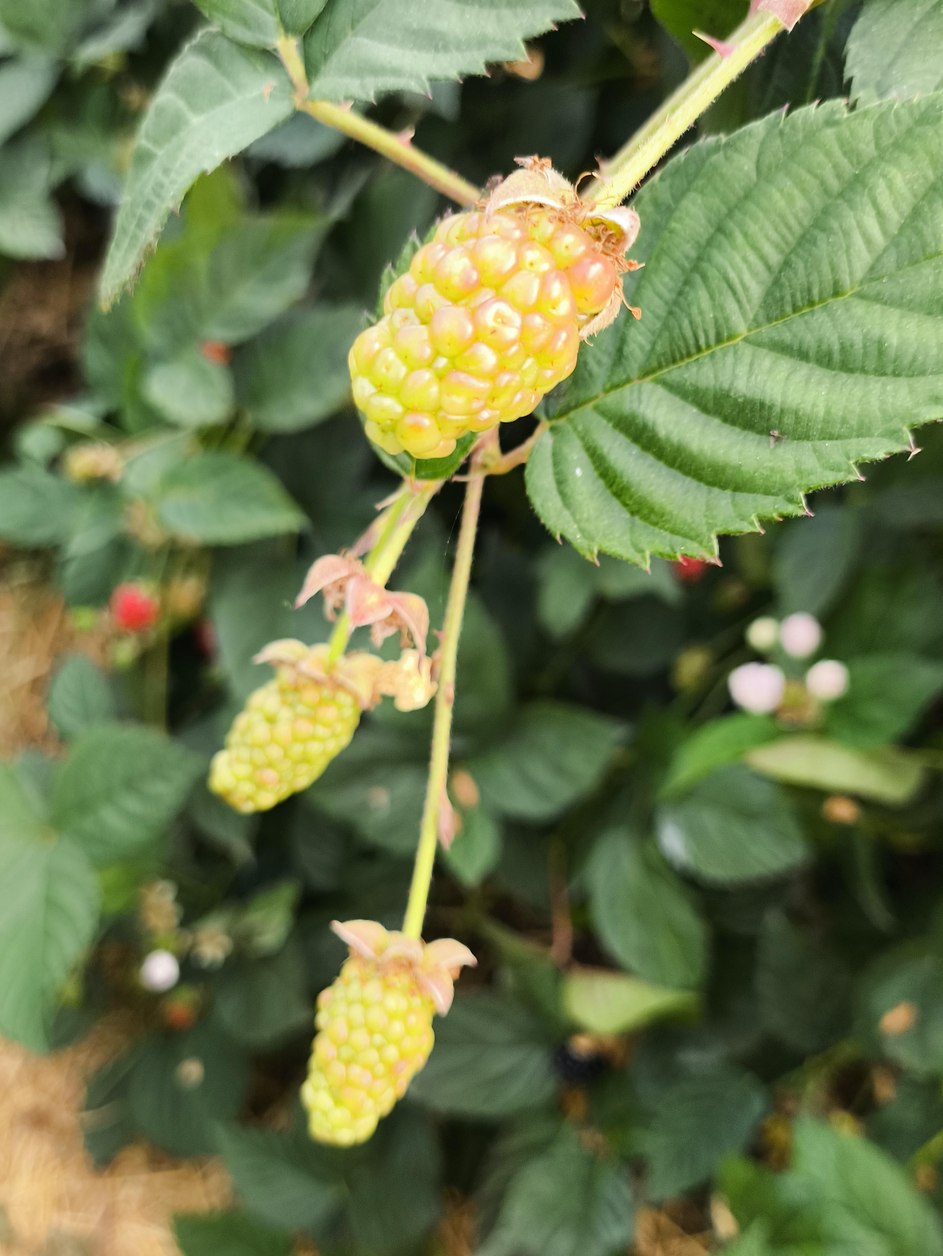verde: (349, 209, 620, 458), (302, 927, 453, 1146), (209, 668, 361, 811)
